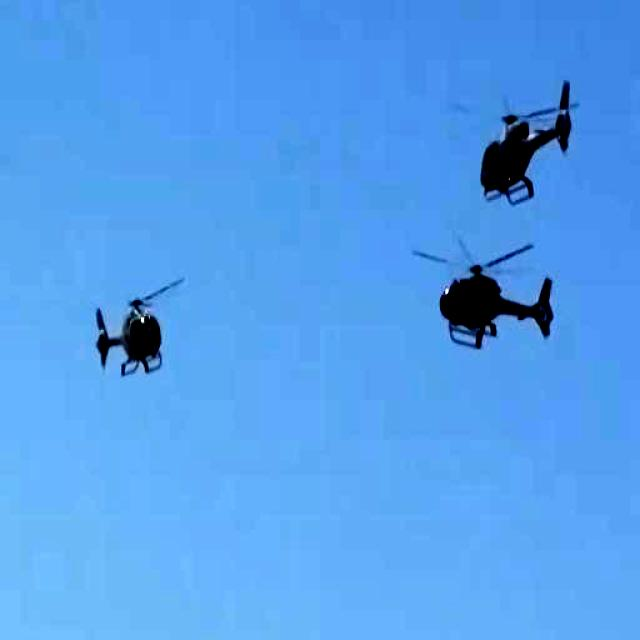drone: (399, 218, 581, 362), (465, 58, 582, 212), (72, 256, 188, 394)
